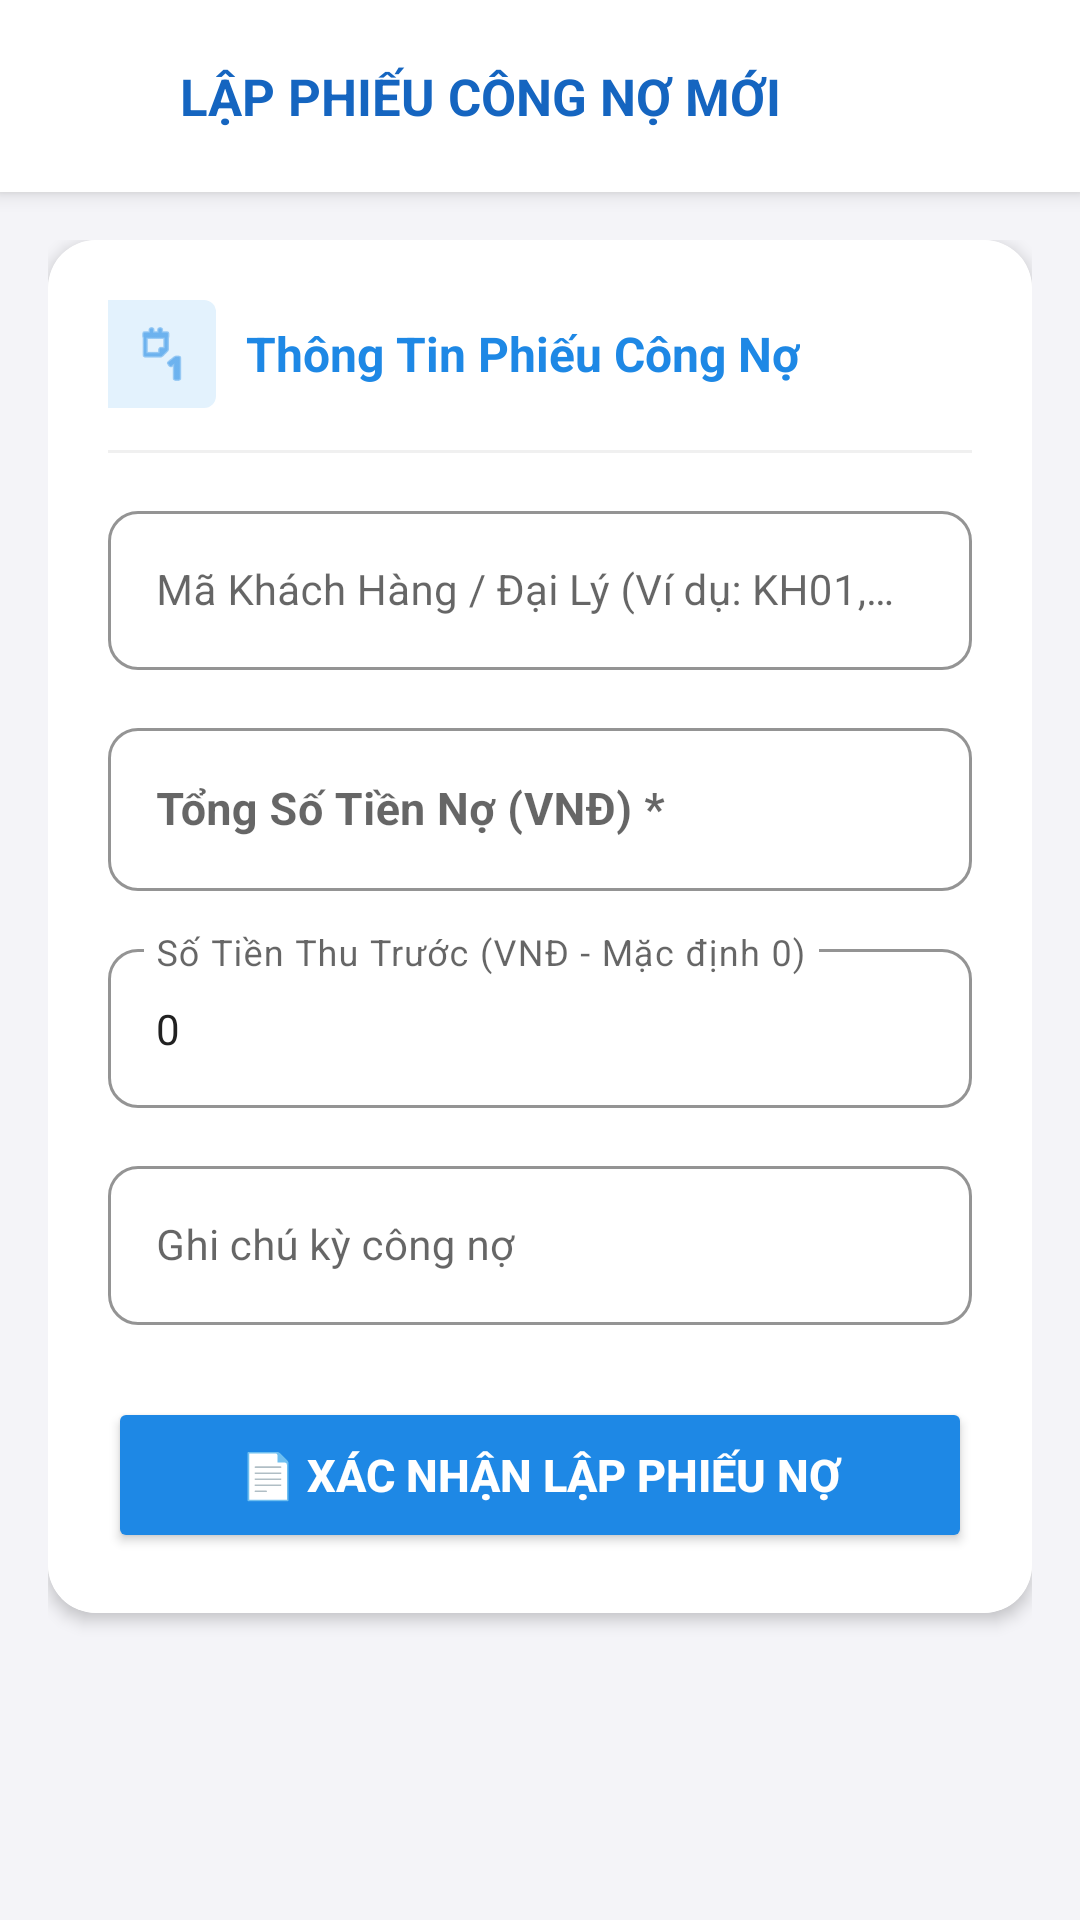

Icon click points for this 1080 x 1920 phone screenshot, format (x,y):
day: (162,354)
